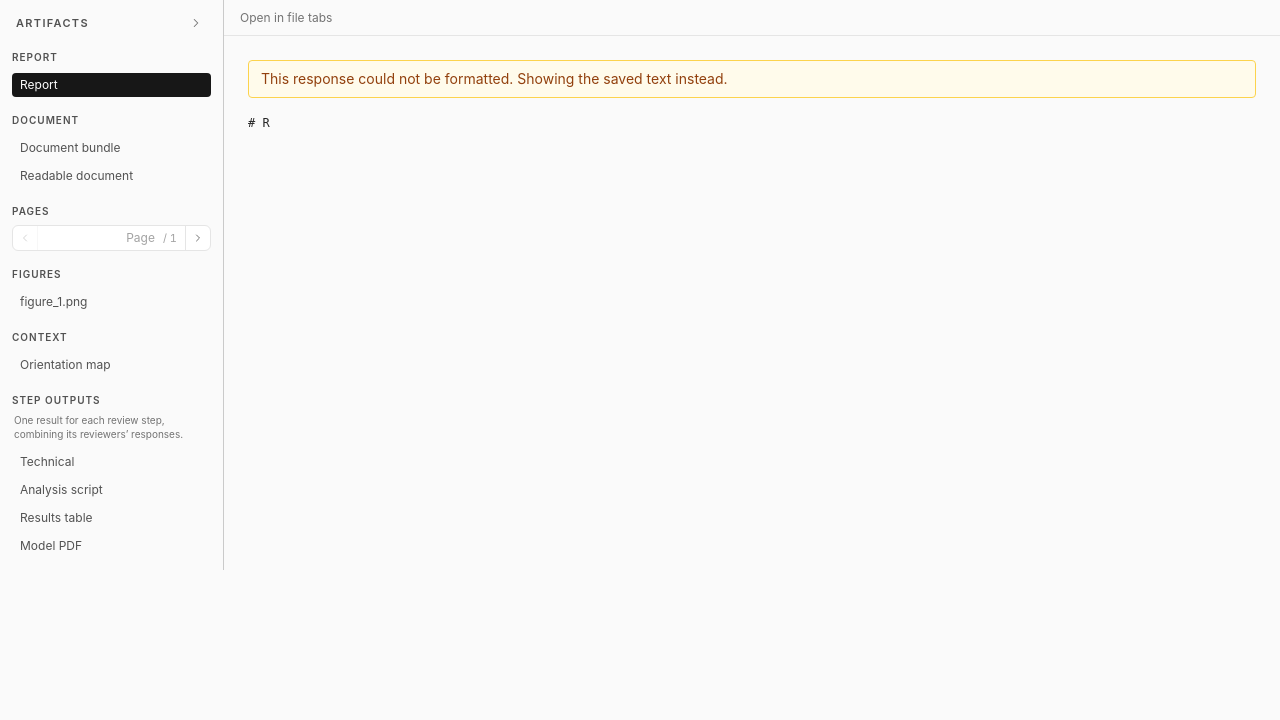
Test: ArtifactExplorer › renders CSV artifacts as a table
Click the button "Results table". click: (112, 518)
box: [12,506,211,530]
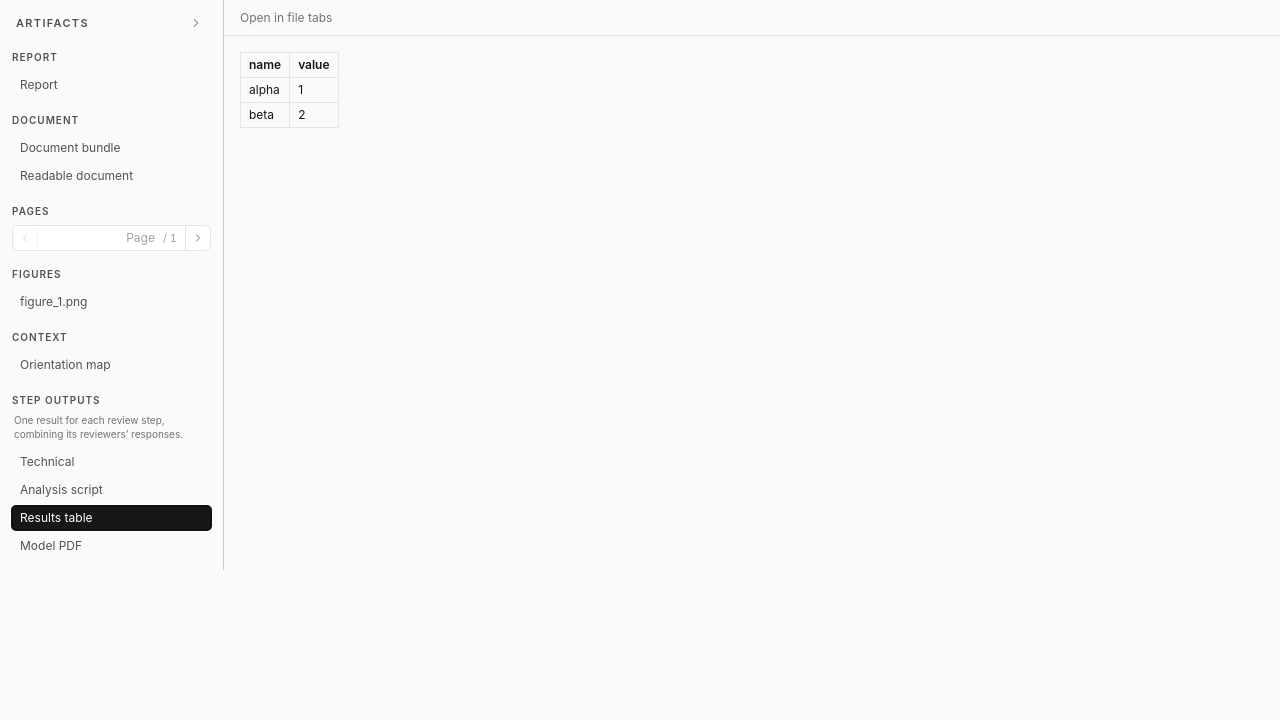
Check: the table is shown, box [240,52,339,128]
Check: the text "alpha" is shown, box [240,78,290,102]
Check: the text "beta" is shown, box [240,102,290,128]
